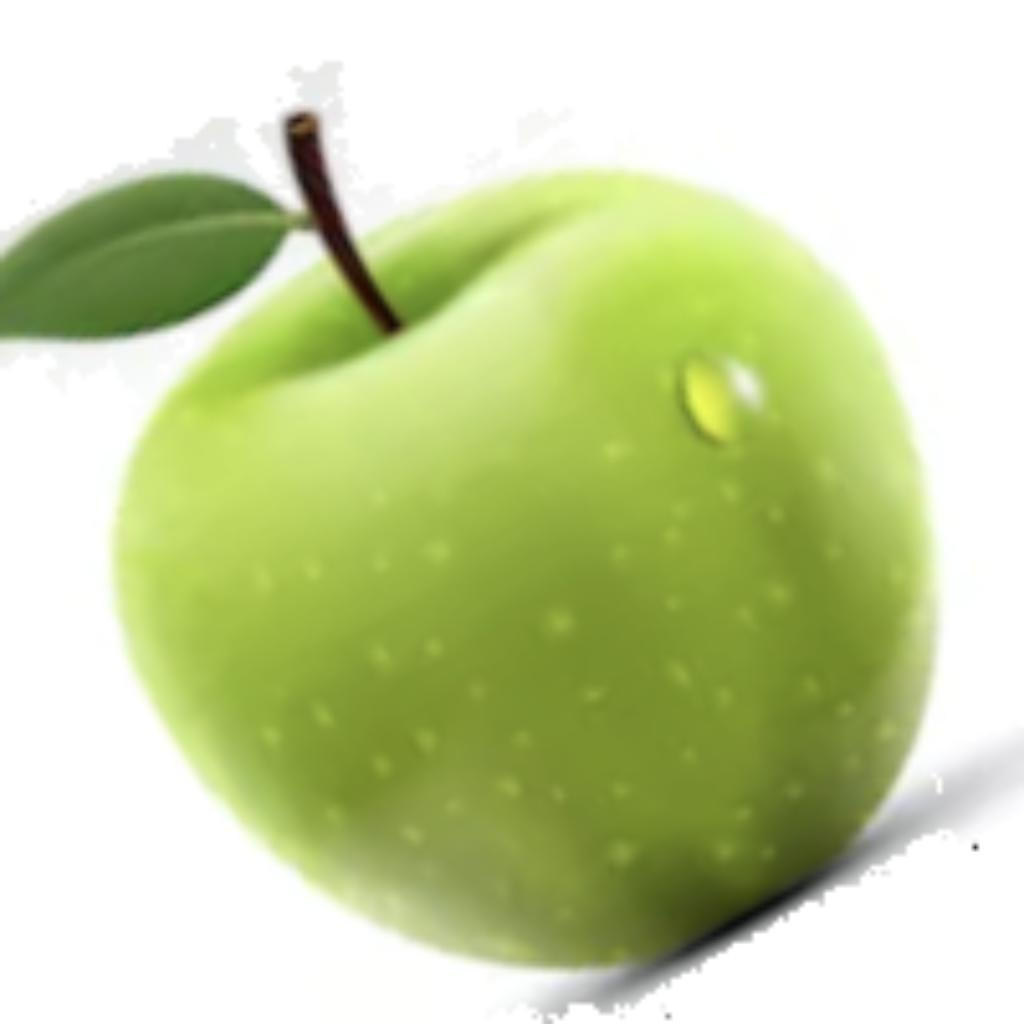apple: (0, 56, 1019, 1019)
